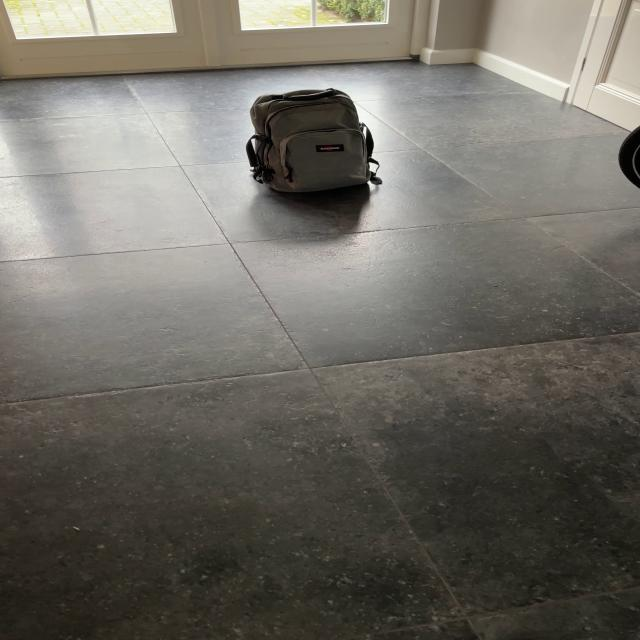backpack: (239, 83, 381, 197)
